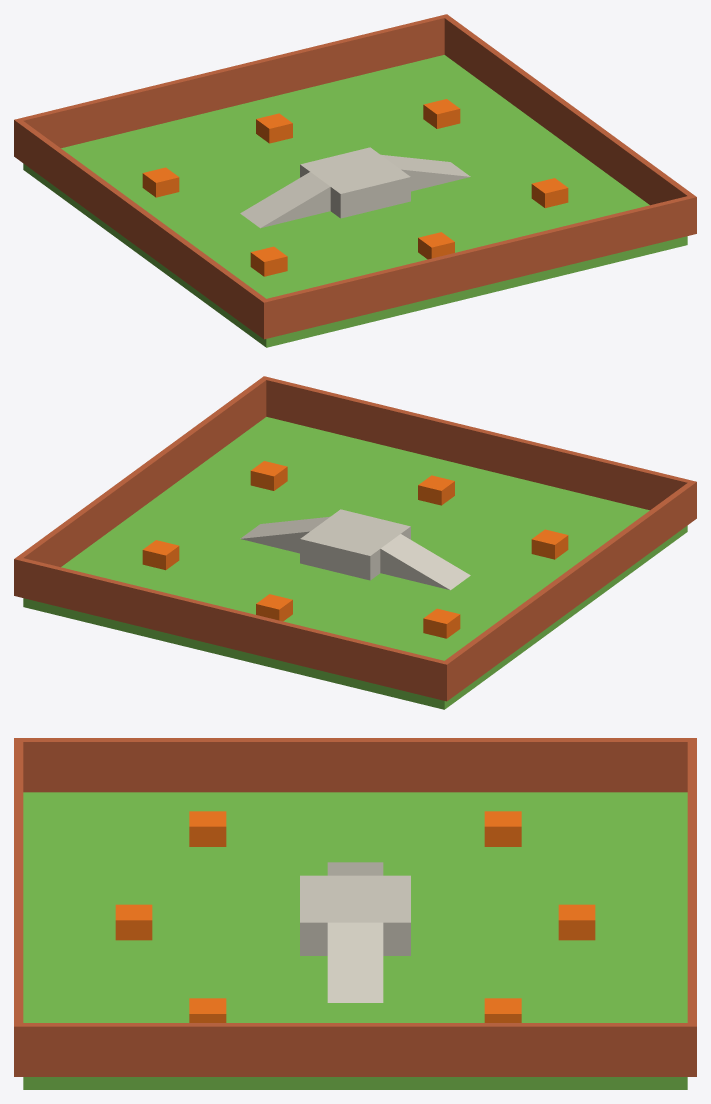
File: arena_teste.glb
3 views of the same model, one above another, from view 1: azimuth 30°, elevation 25°; view 2: azimuth 150°, elevation 25°; view 3: azimuth 270°, elevation 25° (orthographic). The views are drawn at different scales.
Parts seen in each view (by area): view 1: chao, muros, plataforma, caixotes, rampa_leste; view 2: chao, muros, plataforma, caixotes, rampa_leste; view 3: chao, muros, plataforma, caixotes, rampa_leste.
Boxes of the visible parts, box(x1,y1,x2,y2) form: chao: box(23, 55, 687, 347); muros: box(14, 14, 696, 339); plataforma: box(240, 147, 410, 228); caixotes: box(142, 99, 568, 276); rampa_leste: box(381, 154, 470, 191); chao: box(23, 417, 687, 709); muros: box(14, 376, 696, 701); plataforma: box(300, 509, 470, 590); caixotes: box(142, 461, 568, 638); rampa_leste: box(240, 516, 329, 553); chao: box(23, 792, 687, 1089); muros: box(14, 738, 696, 1076); plataforma: box(300, 862, 410, 955); caixotes: box(115, 811, 595, 1022); rampa_leste: box(327, 922, 383, 1002).
Size of the model in its own units: 37 by 4 by 37.
